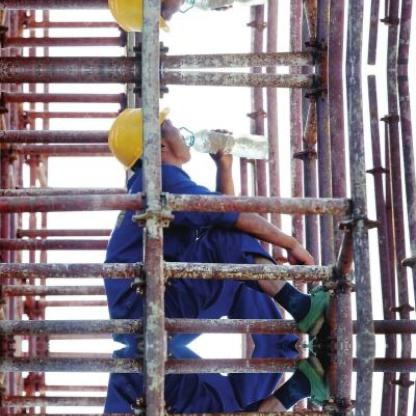Safety Helmet: (100, 96, 193, 179), (100, 1, 196, 37)
